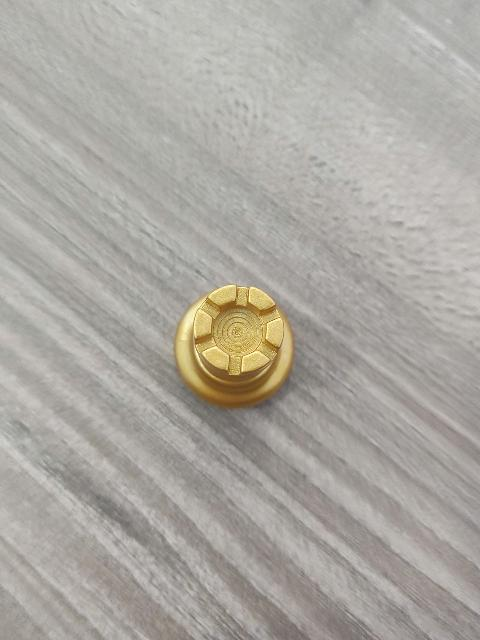black_rook: (174, 281, 297, 413)
